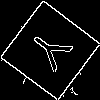Y: (25, 25, 81, 79)
